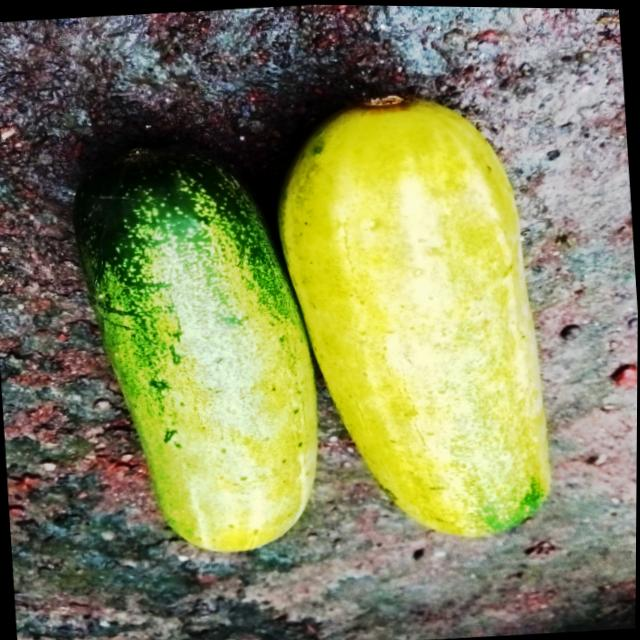Fresh-Cucumber: (268, 83, 559, 553), (65, 128, 331, 567)
